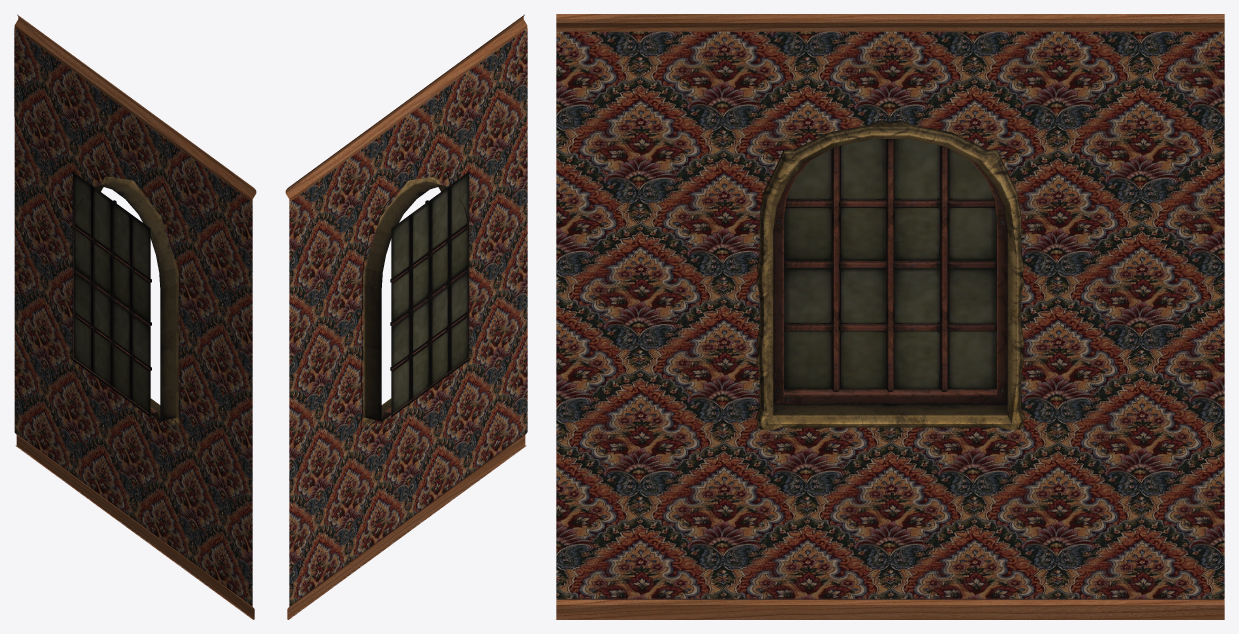
Rendered from flower_power2_small_window.dae.
3 renders of one model, left to right at view 1: azimuth 30°, elevation 25°; view 2: azimuth 150°, elevation 25°; view 3: azimuth 270°, elevation 25°, orthographic. The views are drawn at different scales.
Parts seen in each view (by area): view 1: Plane_003, window02_large_gl_001, window02_large_fr_001; view 2: Plane_003, window02_large_gl_001, window02_large_fr_001; view 3: Plane_003, window02_large_gl_001, window02_large_fr_001.
Boxes of the visible parts, bbox=[...] form: Plane_003: bbox=[14, 14, 256, 619]; window02_large_gl_001: bbox=[72, 171, 150, 416]; window02_large_fr_001: bbox=[73, 171, 181, 432]; Plane_003: bbox=[285, 14, 527, 619]; window02_large_gl_001: bbox=[391, 171, 469, 416]; window02_large_fr_001: bbox=[360, 171, 468, 432]; Plane_003: bbox=[556, 14, 1224, 619]; window02_large_gl_001: bbox=[784, 139, 996, 389]; window02_large_fr_001: bbox=[755, 120, 1025, 430].
Size of the model in its own units: 0.2987 by 4 by 4.
